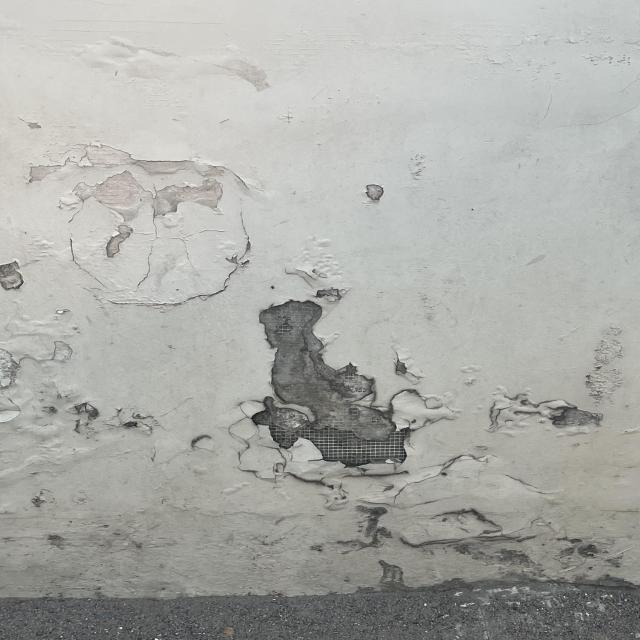hollowing: (54, 33, 296, 95)
spalling: (230, 296, 620, 548), (3, 129, 264, 301), (1, 334, 219, 494), (345, 178, 405, 212)
